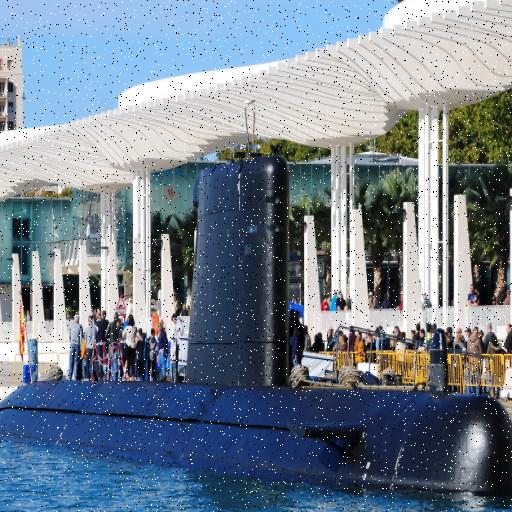submarine: (1, 159, 512, 498)
